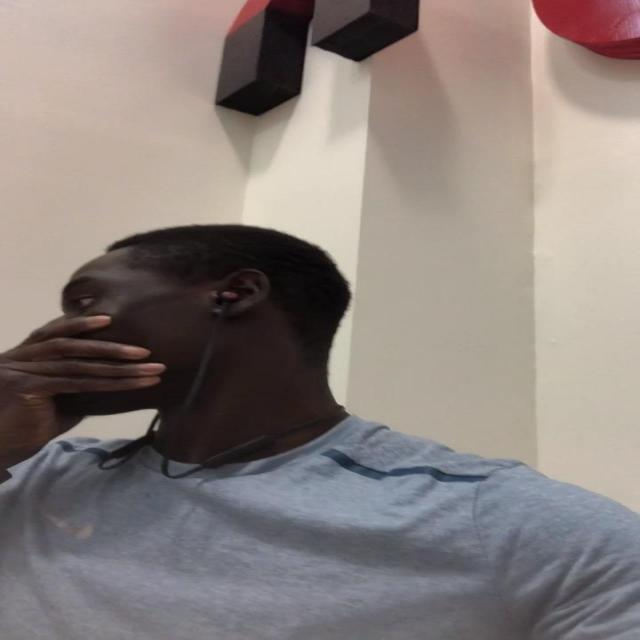face: (37, 250, 249, 414)
